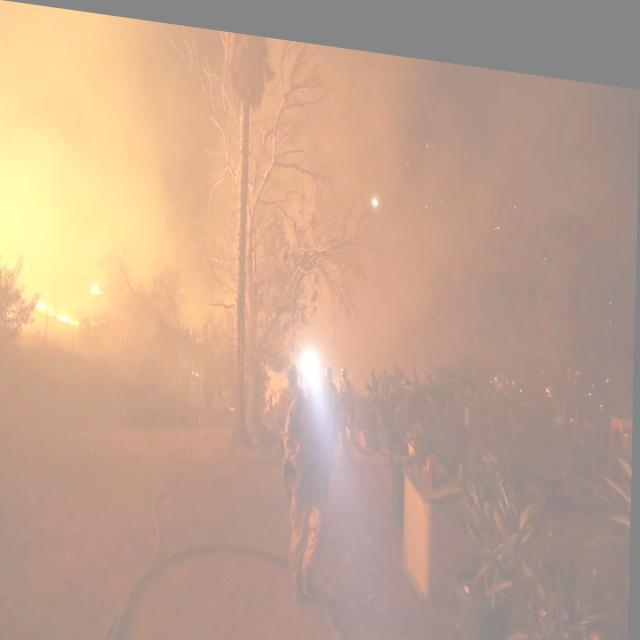Fire: (33, 287, 83, 323), (92, 280, 105, 296)
